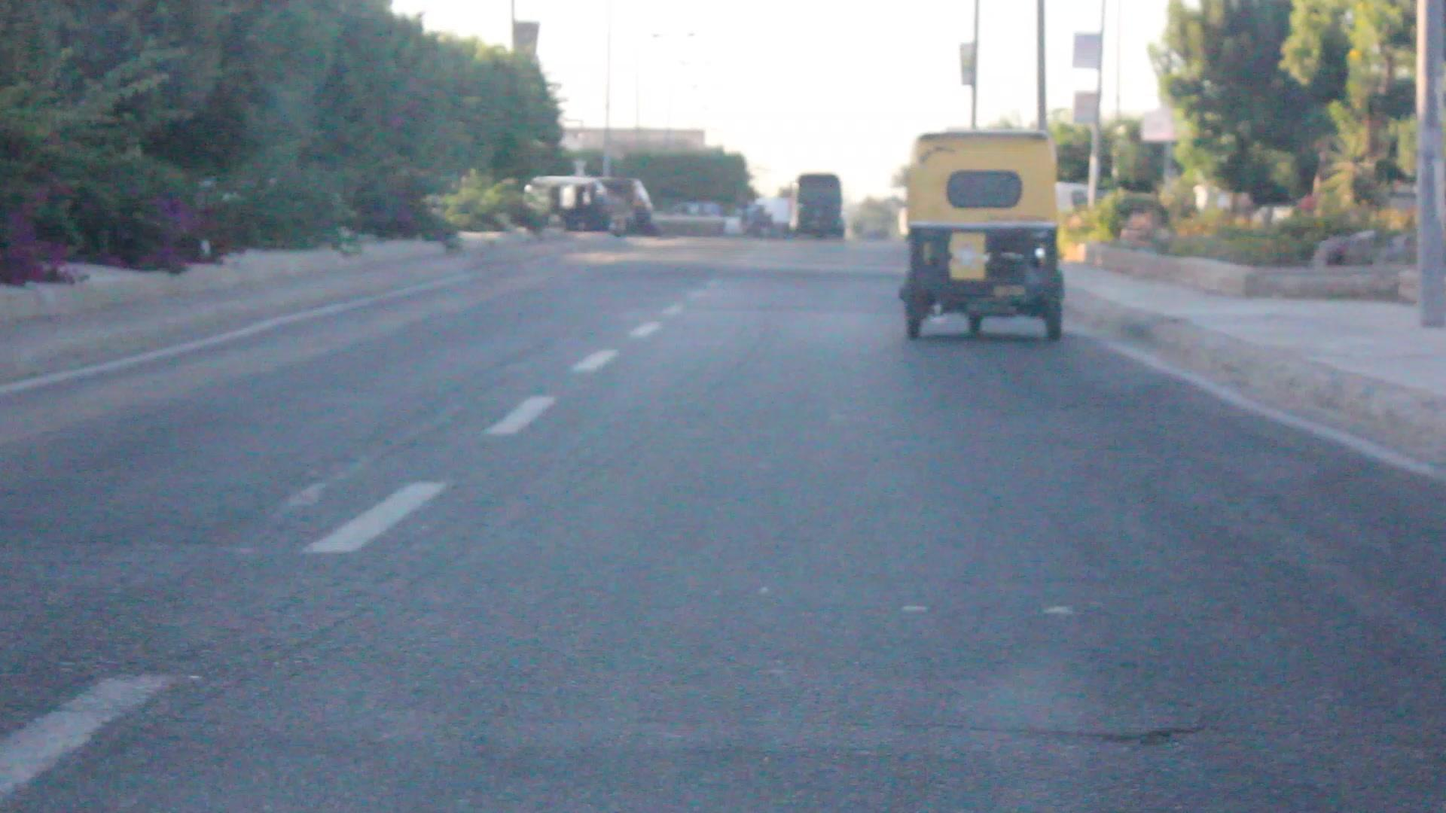Bump: (557, 252, 898, 297)
